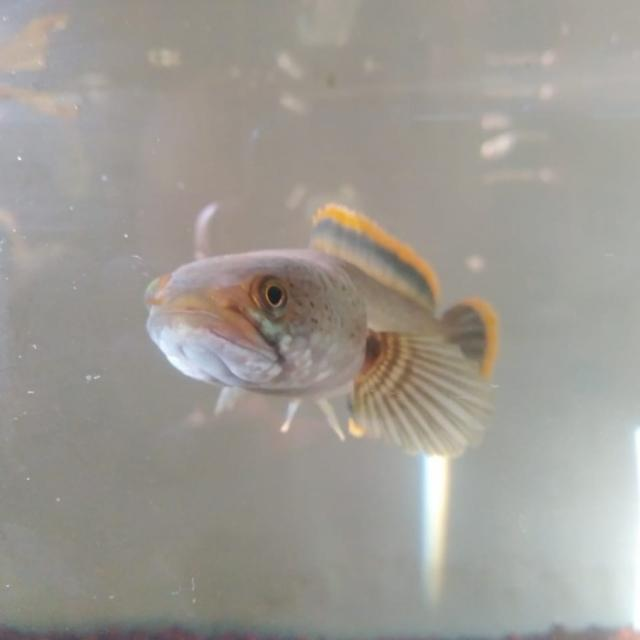Mulut: (144, 282, 292, 386)
Sirip Dada: (351, 331, 501, 463), (207, 377, 251, 418)
Sirip Ekor: (439, 292, 521, 381)
Sirip Perut: (280, 392, 356, 442)
Sirip Punggung: (306, 202, 452, 316)
